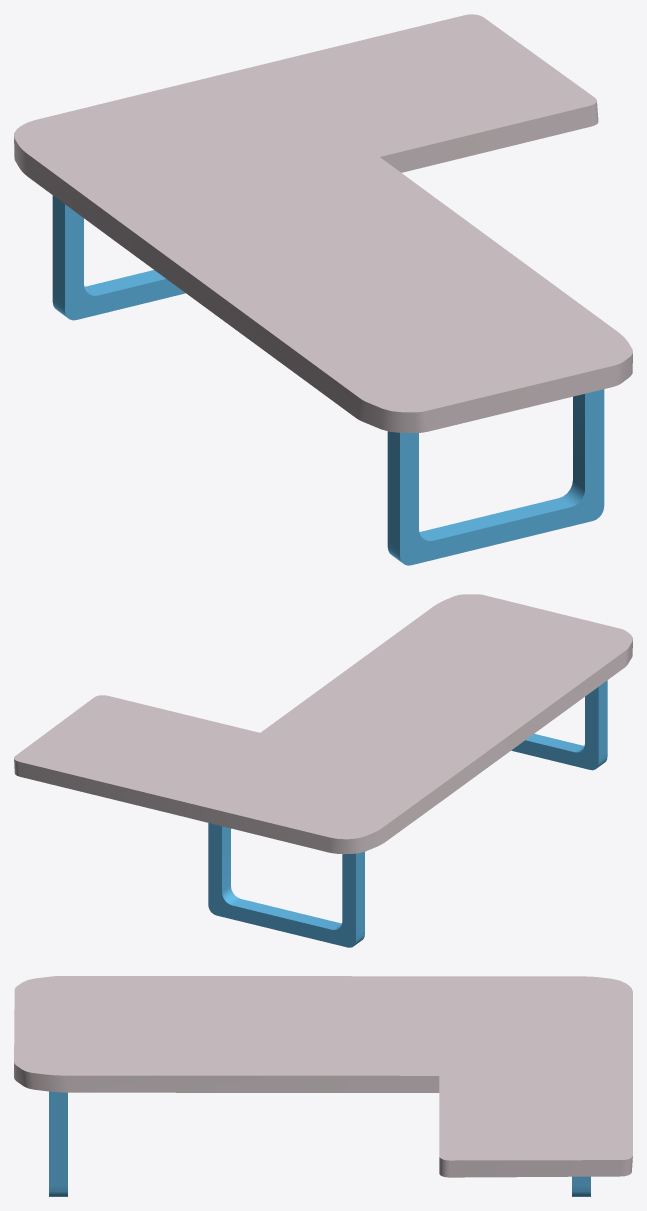
File: manager table.fbx
3 views of the same model, one above another, from view 1: azimuth 30°, elevation 25°; view 2: azimuth 150°, elevation 25°; view 3: azimuth 270°, elevation 25° (orthographic). The views are drawn at different scales.
Parts seen in each view (by area): view 1: manager table; view 2: manager table; view 3: manager table.
Boxes of the visible parts, left/top/right/bottom form: manager table: left=14, top=14, right=632, bottom=565; manager table: left=14, top=594, right=632, bottom=947; manager table: left=14, top=976, right=632, bottom=1196.
Bounding box in the file's own units: 3.9 × 1.31 × 5.49.
